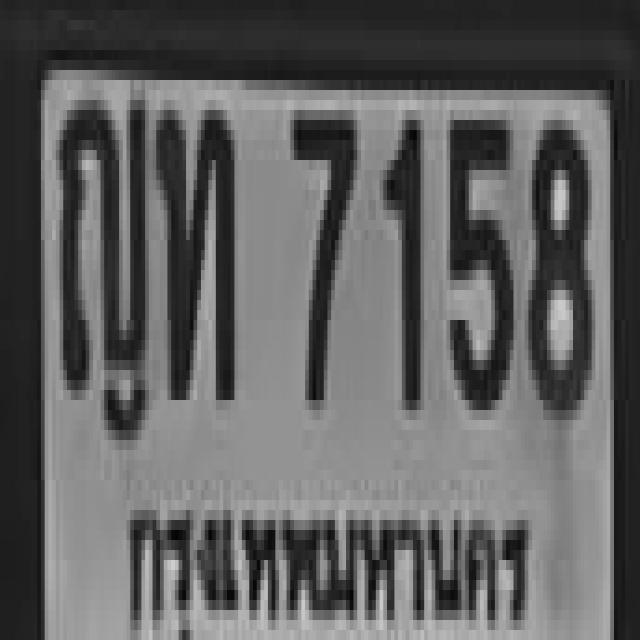1: (380, 110, 420, 400)
22YorYing: (56, 90, 145, 390)
32ThorThaHan: (156, 100, 231, 390)
5: (446, 110, 510, 400)
7: (290, 100, 354, 400)
8: (525, 110, 588, 410)
Bangkok: (118, 485, 539, 638)
